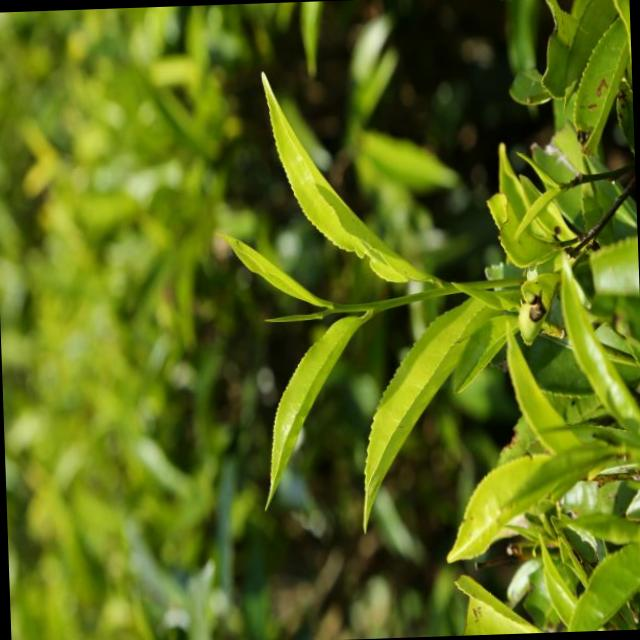Stem: (333, 303, 343, 310)
